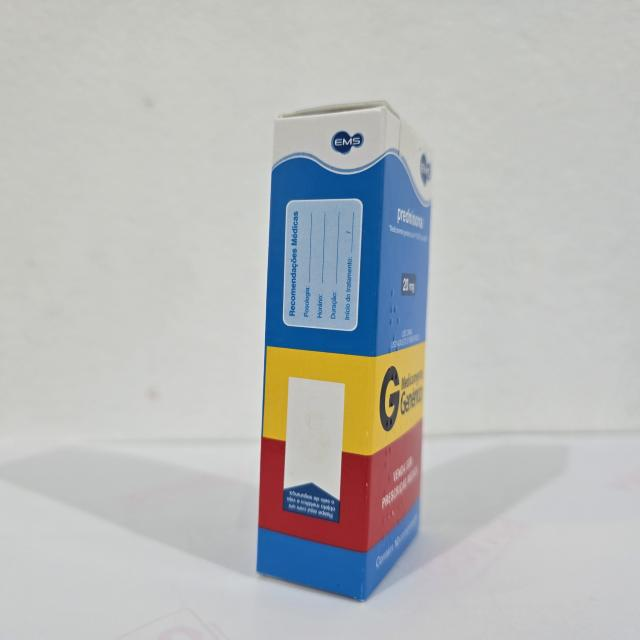prednisona: (253, 97, 437, 608)
